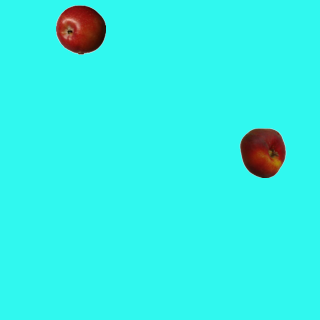Apple Braeburn: (55, 4, 105, 54)
Nectarine Flat: (237, 127, 287, 177)
